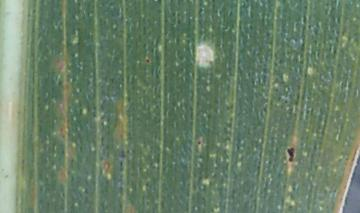tarspot: (283, 131, 302, 181), (142, 52, 155, 69), (194, 135, 204, 153)
